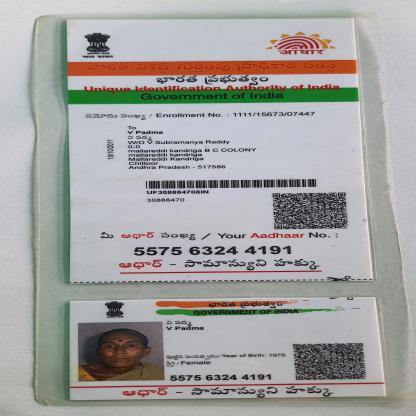aadhaar_card: (38, 12, 394, 405)
